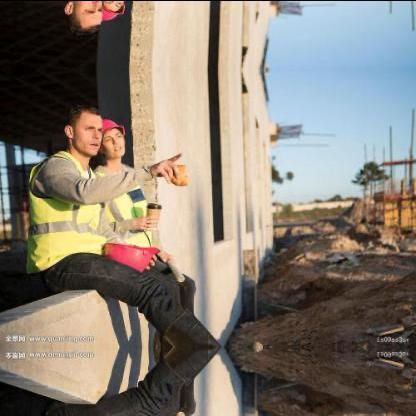Helmet: (96, 116, 126, 156), (96, 0, 126, 20)
No Helmet: (61, 100, 102, 158), (60, 0, 103, 37)
